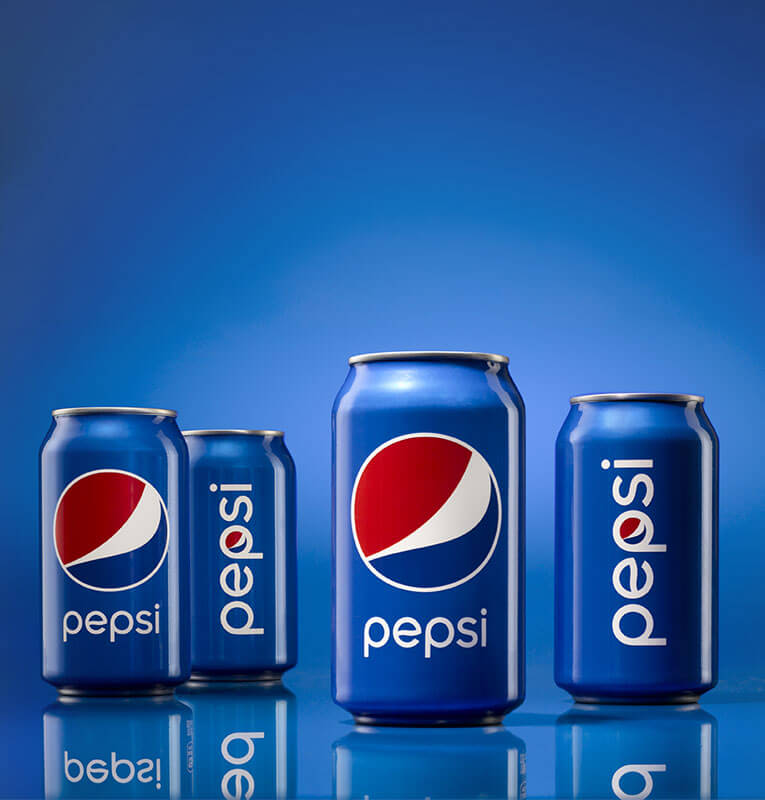pepsi: (349, 432, 500, 592), (349, 434, 500, 592), (46, 469, 167, 592), (52, 469, 167, 592), (222, 524, 249, 552), (618, 515, 644, 541)
